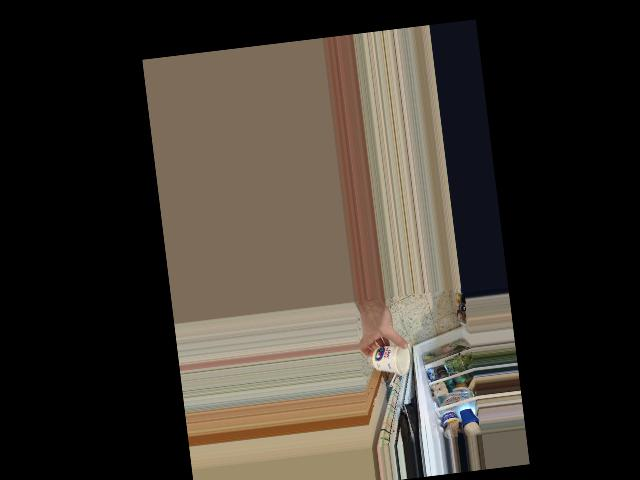cotage: (368, 337, 413, 379)
